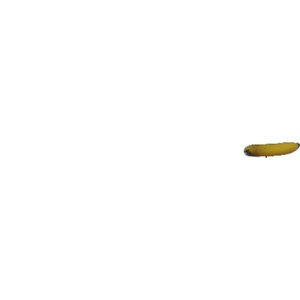banana: (243, 136, 300, 168)
